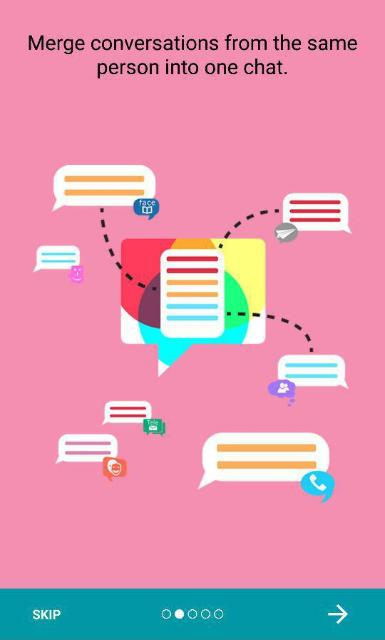Icon: (328, 603, 348, 623)
Image: (32, 164, 352, 502)
PageIndicator: (160, 608, 224, 620)
Text: (29, 34, 357, 78), (32, 609, 60, 619)
